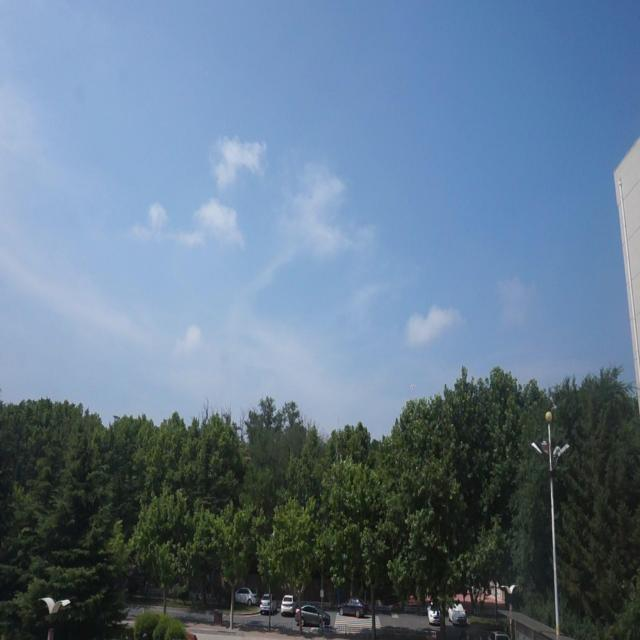UAV: (410, 384, 416, 389)
